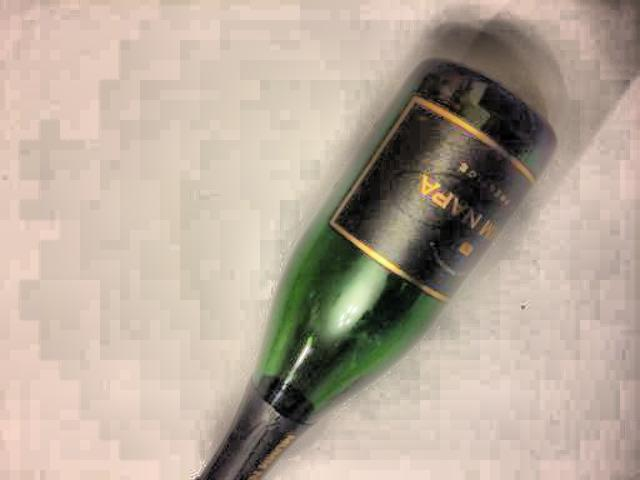Bottles: (156, 54, 548, 480)
